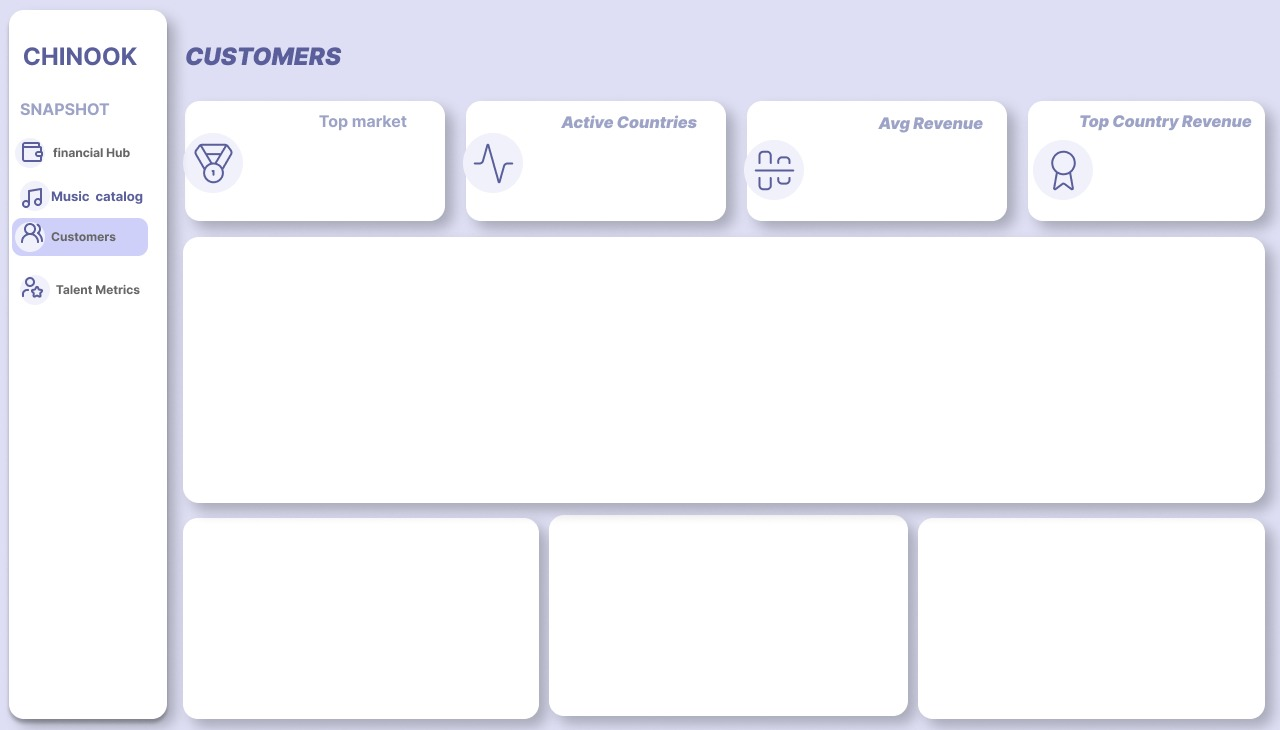

The page's visual inventory and layout, read from the dashboard file:
{"tool":"powerbi","page":{"name":"Page 3","canvas":[1280,720],"ordinal":2},"visuals":[{"type":"cardVisual","fields":{"Data":["DAX.Top Market"]},"box":[261.9,129.8,163.1,71.4],"z":0},{"type":"cardVisual","fields":{"Data":["DAX.Countries Active"]},"box":[569.1,133.3,110.7,67.9],"z":1000},{"type":"cardVisual","fields":{"Data":["DAX.daxAvg Rev per Customer"]},"box":[834.5,133.3,142.9,72.6],"z":2000},{"type":"cardVisual","fields":{"Data":["DAX.Top Country Revenue"]},"box":[1091.7,125,169,81],"z":3000},{"type":"columnChart","title":"Revenue by Country","fields":{"Y":["DAX.Total Revenue"],"Category":["invoice.BillingCountry"]},"box":[194,245.2,1056,228.6],"z":4000},{"type":"textbox","box":[621.4,260.7,221.4,63.1],"z":5000},{"type":"columnChart","title":"Revenue per Customer ","fields":{"Y":["DAX.Rev per Customer"],"Category":["invoice.BillingCountry"]},"box":[194,519.1,341.7,188.1],"z":6000},{"type":"barChart","title":"Invoices per Country","fields":{"Category":["invoice.BillingCountry"],"Y":["DAX.Invoices per Country"]},"box":[933.3,519.1,316.7,188.1],"z":7000},{"type":"pieChart","title":"Regional Revenue Breakdown","fields":{"Category":["invoice.Region"],"Y":["DAX.Total Revenue"]},"box":[569.1,519.1,325,186.9],"z":8000},{"type":"slicer","fields":{"Values":["invoice.Region"]},"box":[1091.7,21.4,150,58.3],"z":9000}]}

Visuals, with their boxes on the page's 1280x720 design canvas (x1, y1, x2, y2). These are canvas units, not pixel positions in the 1280x730 screenshot, which may show the page scaled, cropped or inside an application window:
cardVisual - DAX.Top Market: 262/130/425/201
cardVisual - DAX.Countries Active: 569/133/680/201
cardVisual - DAX.daxAvg Rev per Customer: 834/133/977/206
cardVisual - DAX.Top Country Revenue: 1092/125/1261/206
"Revenue by Country" columnChart: 194/245/1250/474
textbox: 621/261/843/324
"Revenue per Customer " columnChart: 194/519/536/707
"Invoices per Country" barChart: 933/519/1250/707
"Regional Revenue Breakdown" pieChart: 569/519/894/706
slicer - invoice.Region: 1092/21/1242/80
